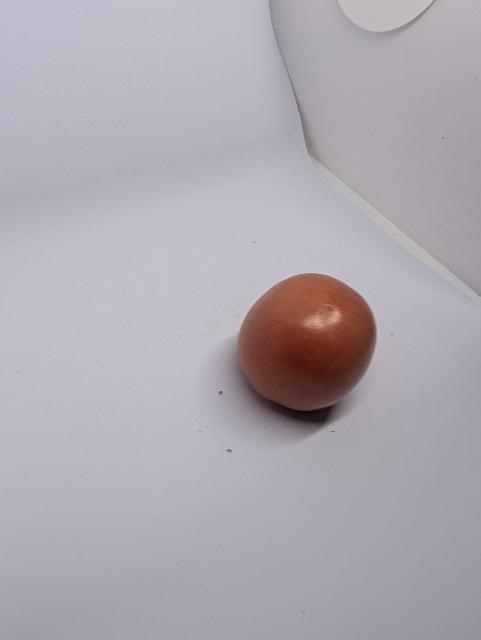red: (235, 271, 382, 420)
